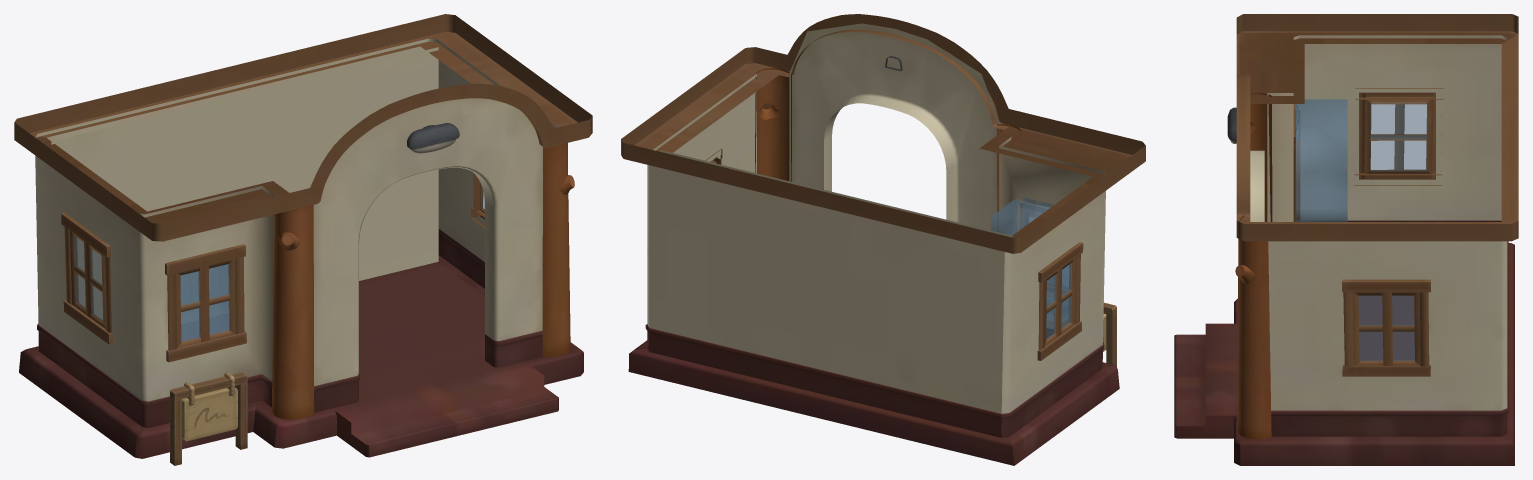
File: wall-nb-stucco.glb
The picture shows the model from 3 angles, left to right: view 1: azimuth 30°, elevation 25°; view 2: azimuth 150°, elevation 25°; view 3: azimuth 270°, elevation 25°; orthographic projection. The views are drawn at different scales.
Bounding box in the file's own units: 39.24 × 27.32 × 27.22.
Materials: 7 (3 with a texture image).
